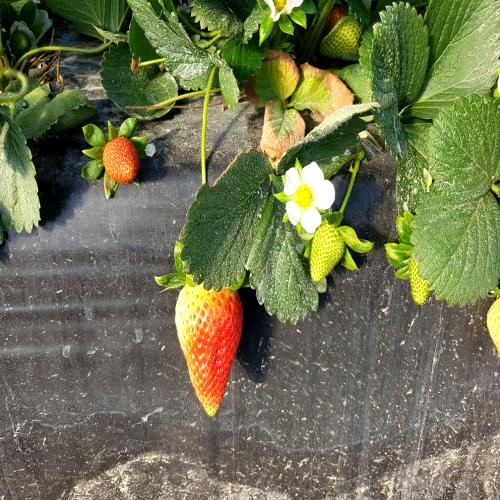partially-ripe: (164, 257, 251, 433)
